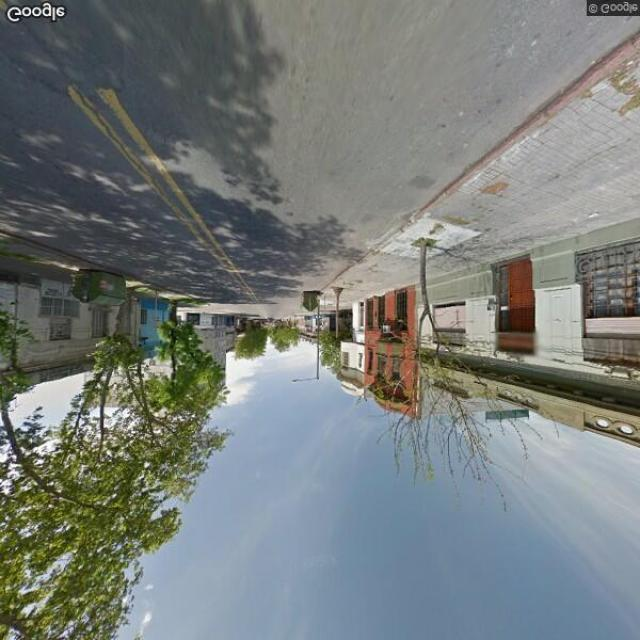garbage container: (63, 267, 140, 315), (296, 290, 325, 317)
